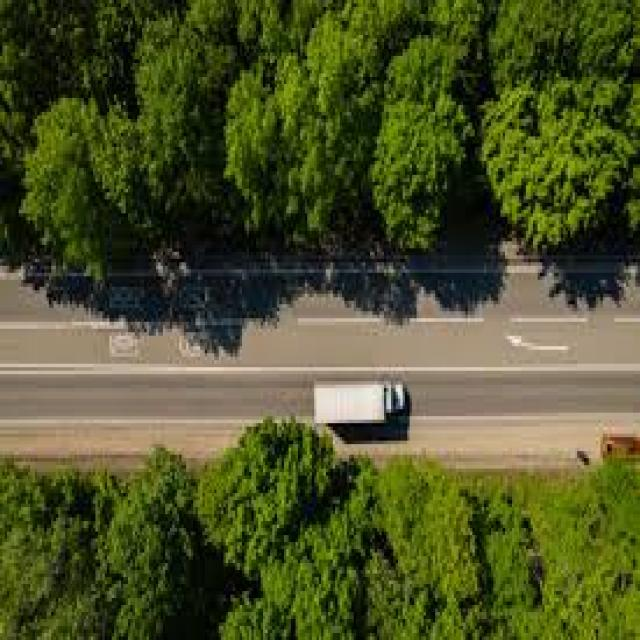truck: (313, 380, 407, 427)
